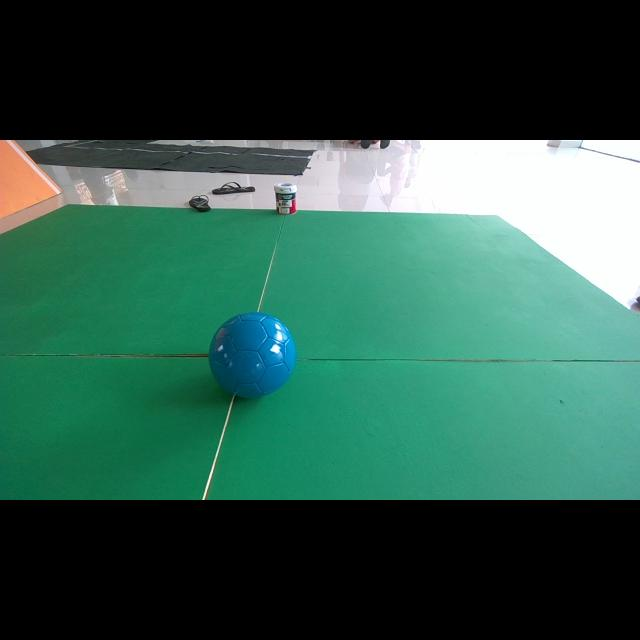B: (209, 312, 296, 398)
